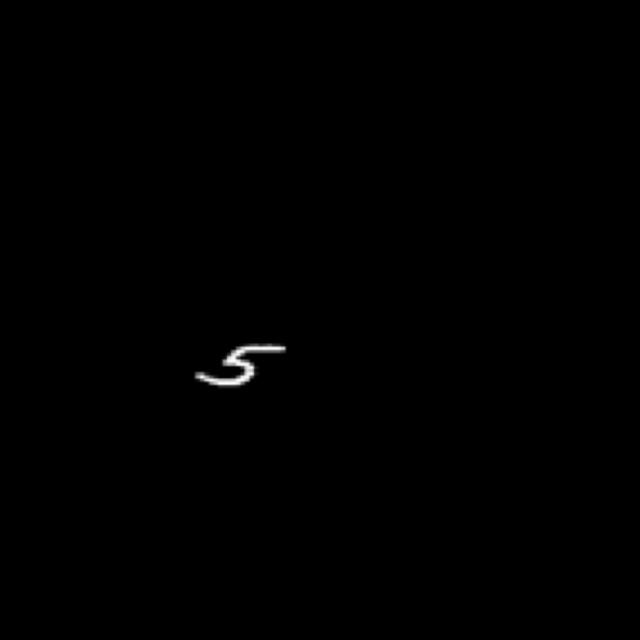five -5-: (200, 339, 288, 390)
